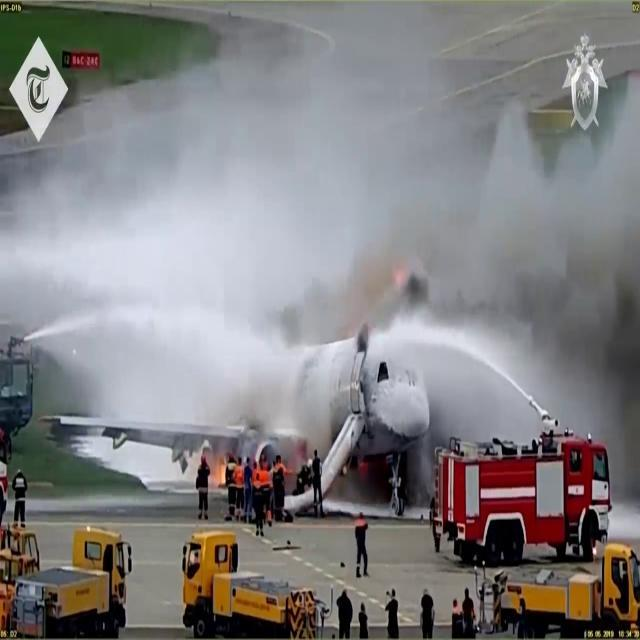Smoke: (0, 0, 638, 436)
